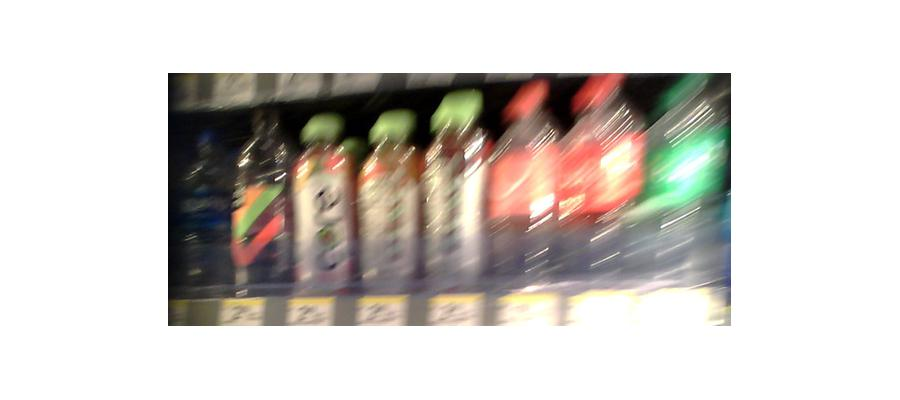bottle: (557, 73, 645, 264), (644, 71, 724, 272), (488, 85, 560, 284), (420, 92, 486, 291), (291, 118, 356, 303), (356, 110, 419, 293), (230, 108, 289, 300), (173, 128, 225, 297)
